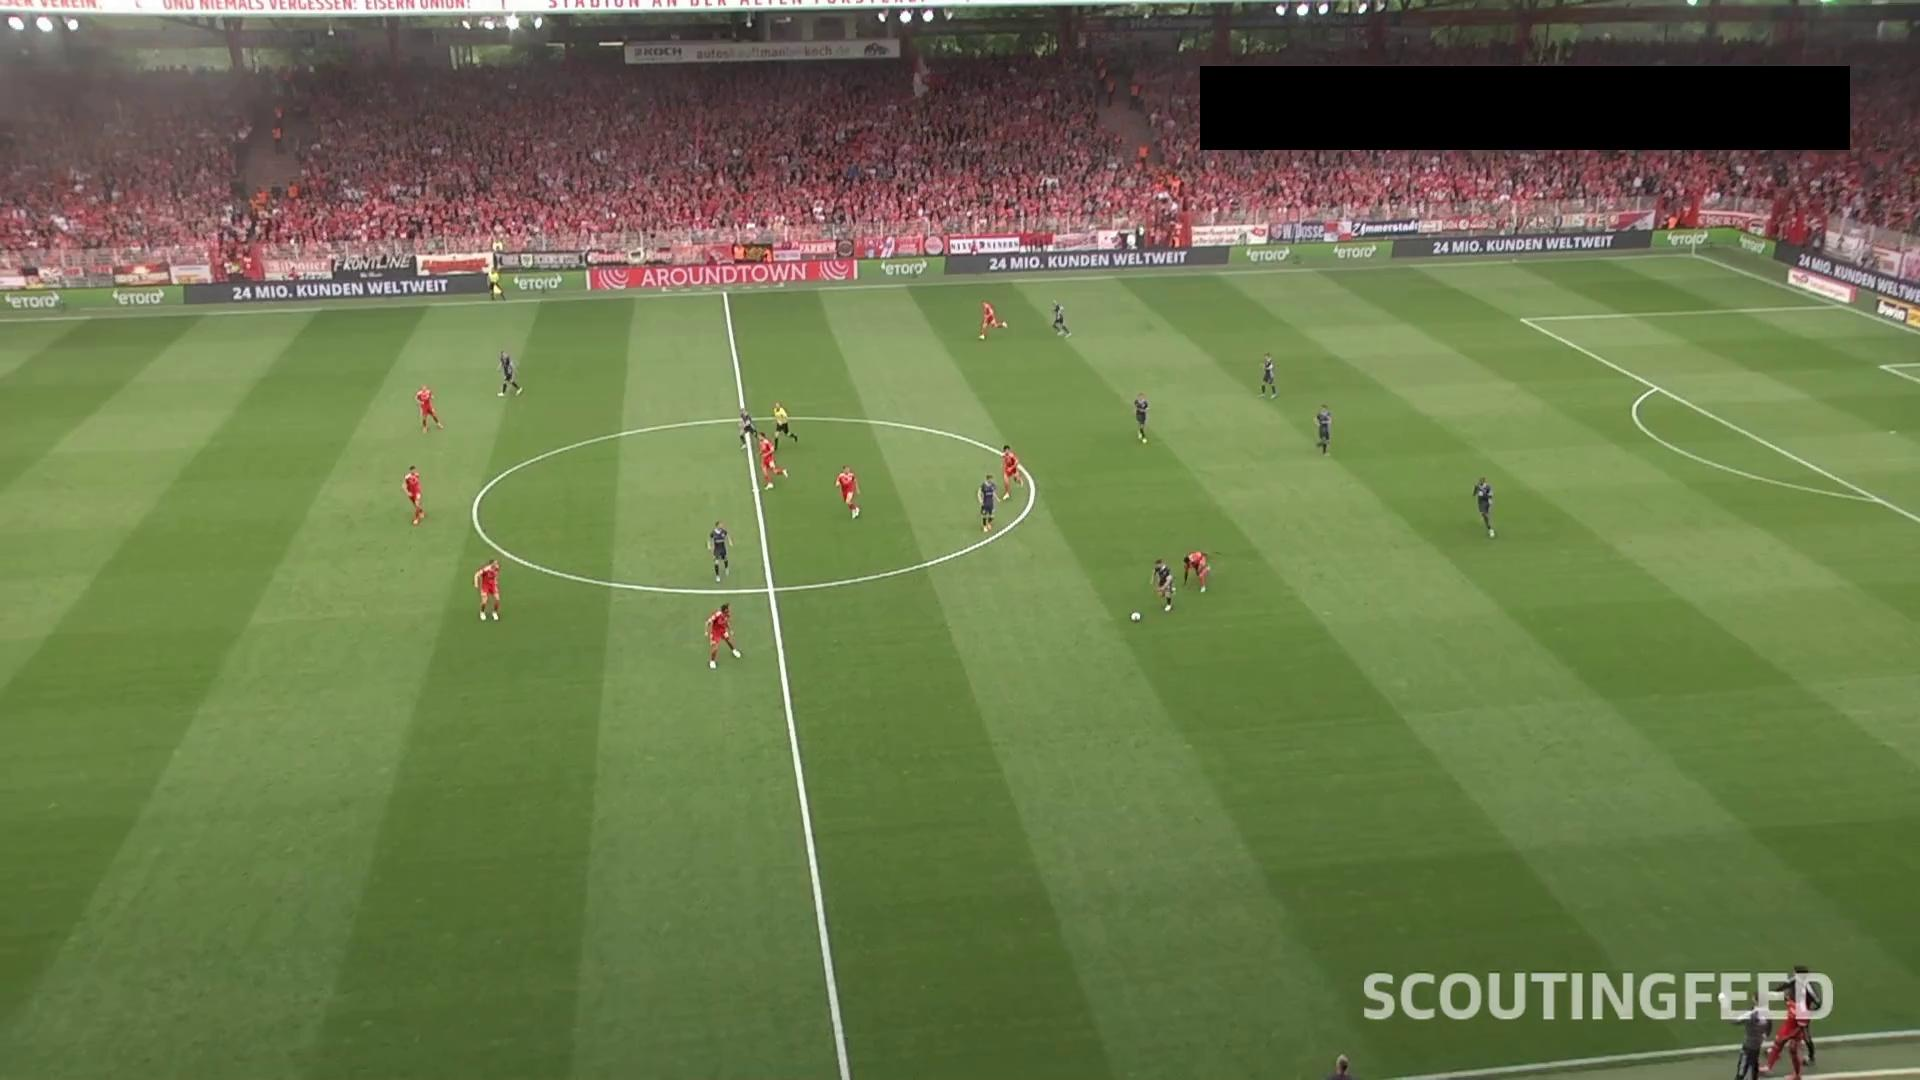Location-of-ball: (1122, 601, 1149, 632)
